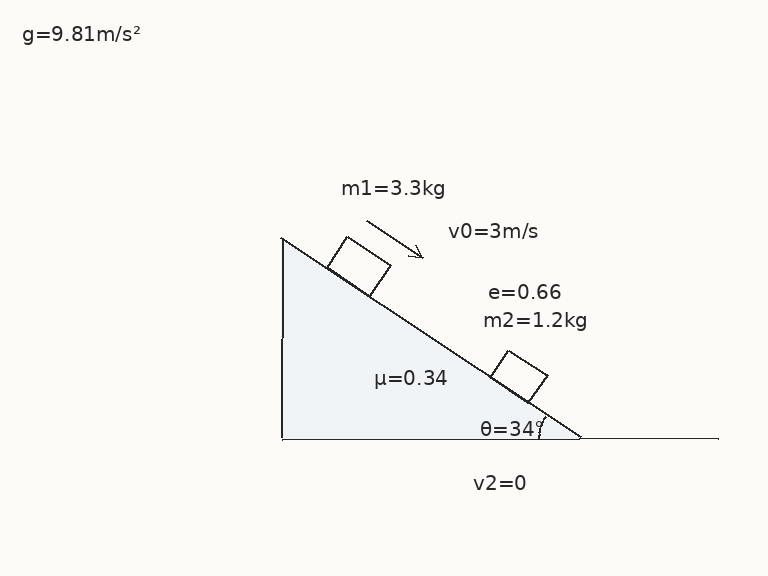block: (324, 235, 392, 298), (487, 347, 549, 405)
ramp: (279, 235, 581, 440)
